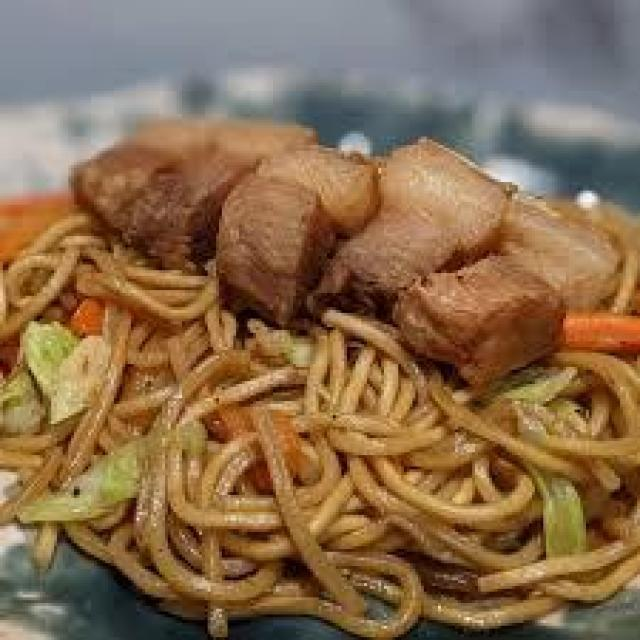pancit bihon: (0, 226, 639, 639)
